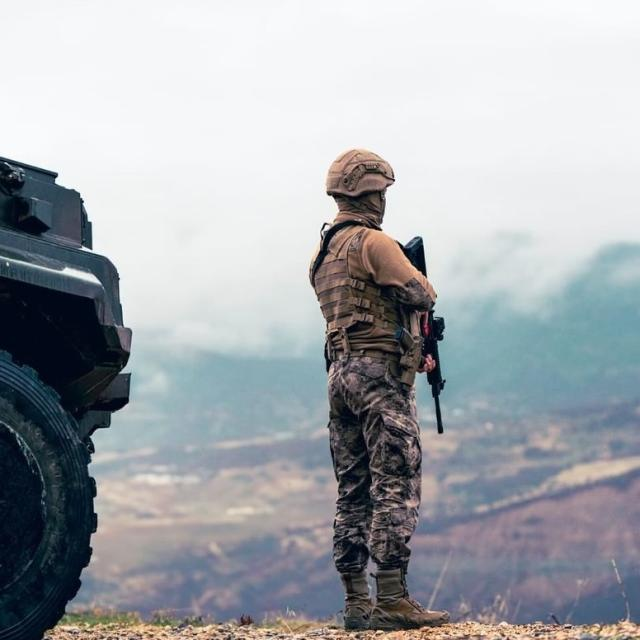poh_personel: (310, 147, 452, 629)
